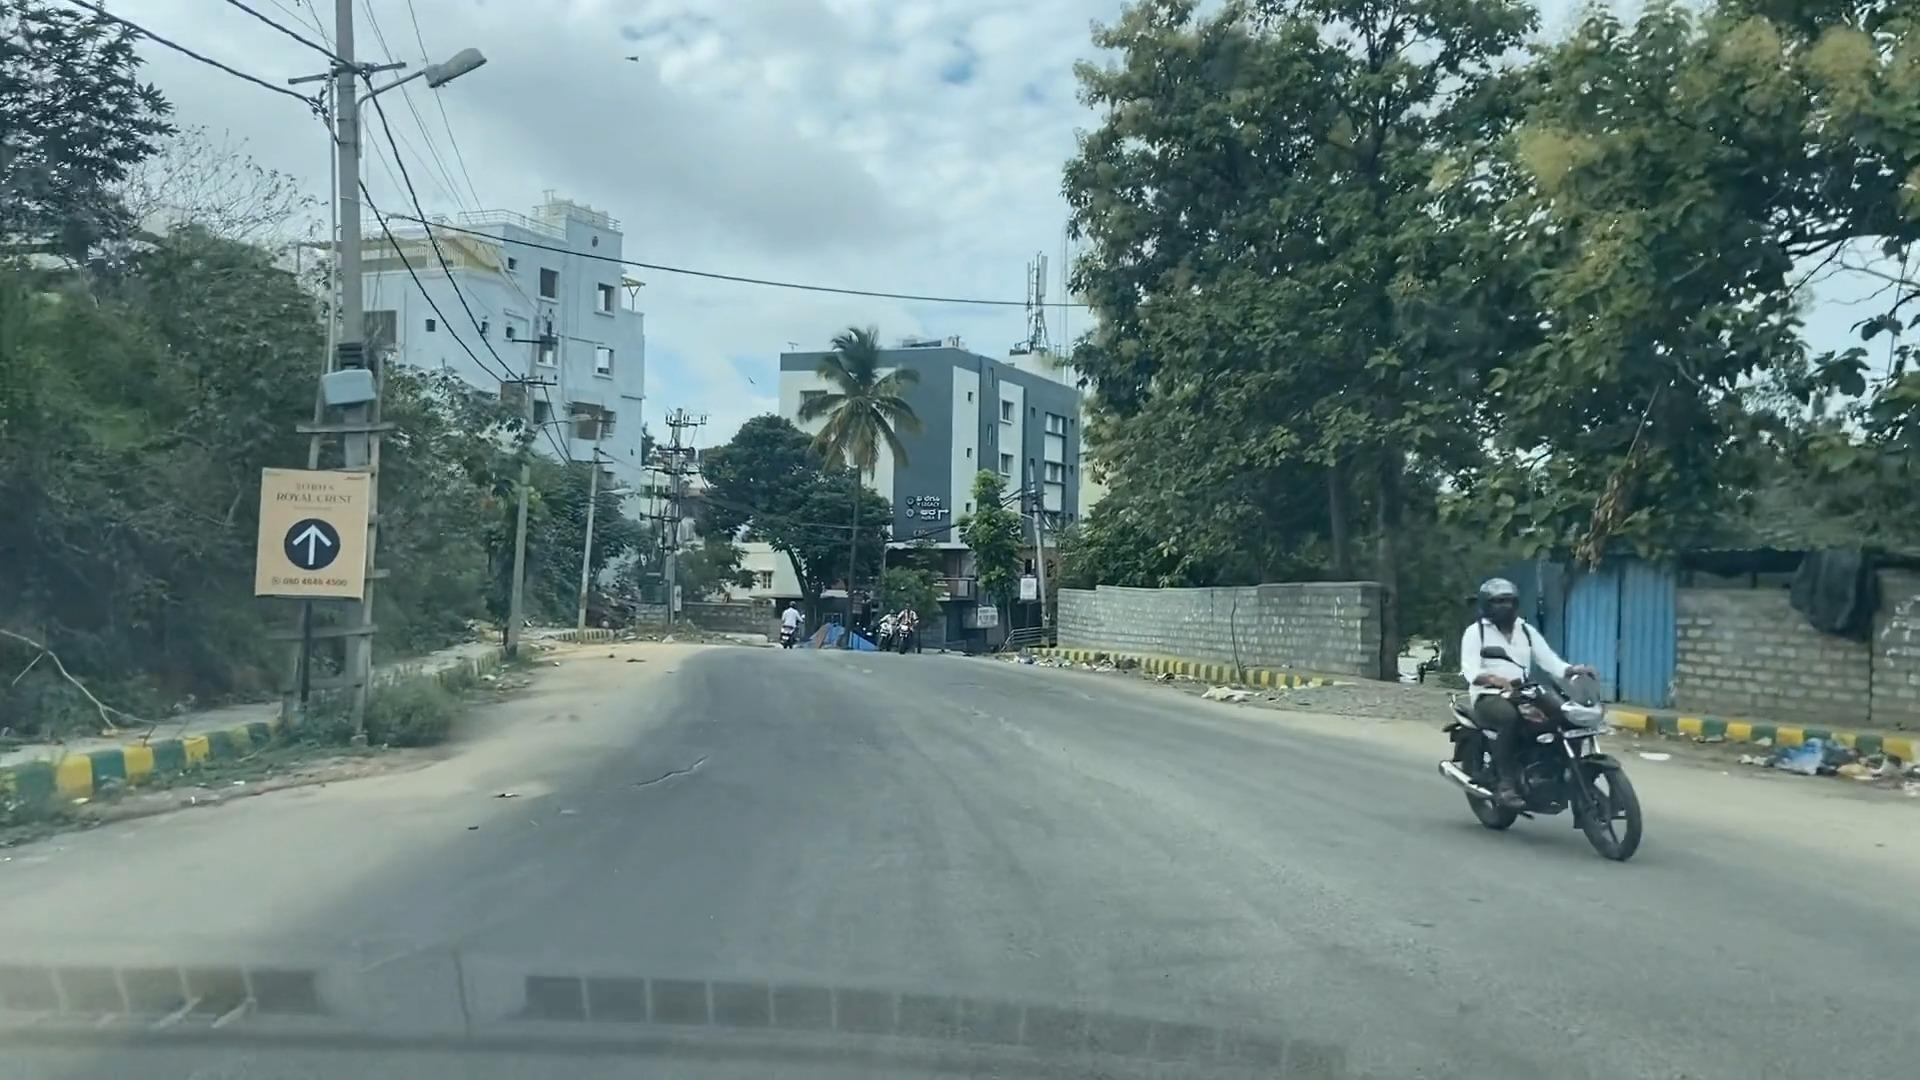RoadDamages: (592, 704, 745, 825)
